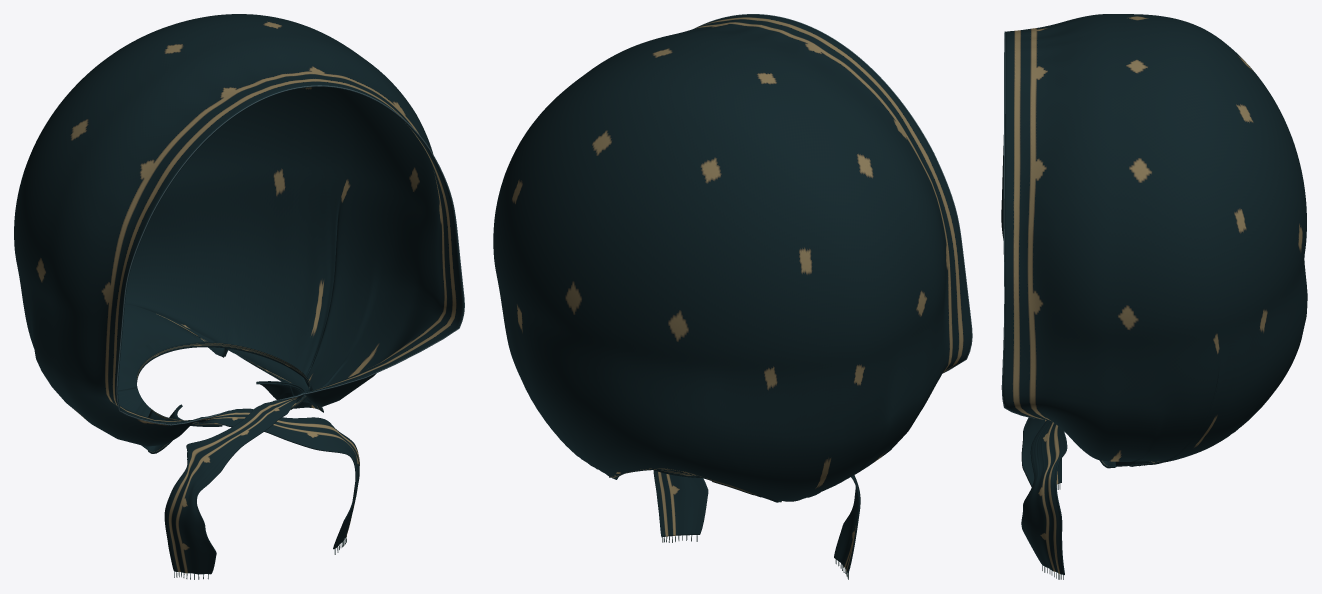
Rendered from Feminine-ponytail-strappy-pashmina251-headgear.glb.
3 views of the same model, side by side, from view 1: azimuth 30°, elevation 25°; view 2: azimuth 150°, elevation 25°; view 3: azimuth 270°, elevation 25° (orthographic). The views are drawn at different scales.
Parts seen in each view (by area): view 1: 226 headgear / Headwear / continuous woven pashmina239, 226 headgear / Headwear / face edge239; view 2: 226 headgear / Headwear / continuous woven pashmina239, 226 headgear / Headwear / face edge239; view 3: 226 headgear / Headwear / continuous woven pashmina239, 226 headgear / Headwear / face edge239.
Part boxes in pixels (bbox=[...]): 226 headgear / Headwear / continuous woven pashmina239: bbox=[14, 14, 463, 574]; 226 headgear / Headwear / face edge239: bbox=[116, 85, 464, 425]; 226 headgear / Headwear / continuous woven pashmina239: bbox=[493, 14, 971, 573]; 226 headgear / Headwear / face edge239: bbox=[694, 14, 972, 373]; 226 headgear / Headwear / continuous woven pashmina239: bbox=[1001, 14, 1307, 574]; 226 headgear / Headwear / face edge239: bbox=[1001, 31, 1042, 419].
Size of the model in its own units: 1.07 by 1.38 by 0.7569.
3 materials, 1 textured.
